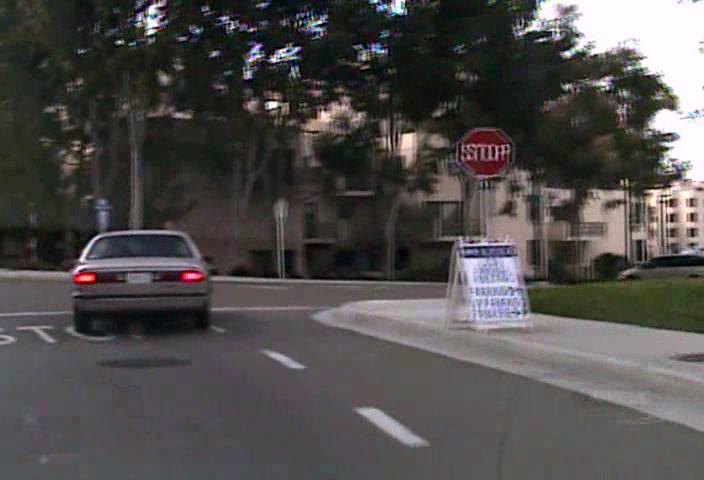stop: (456, 126, 514, 177)
